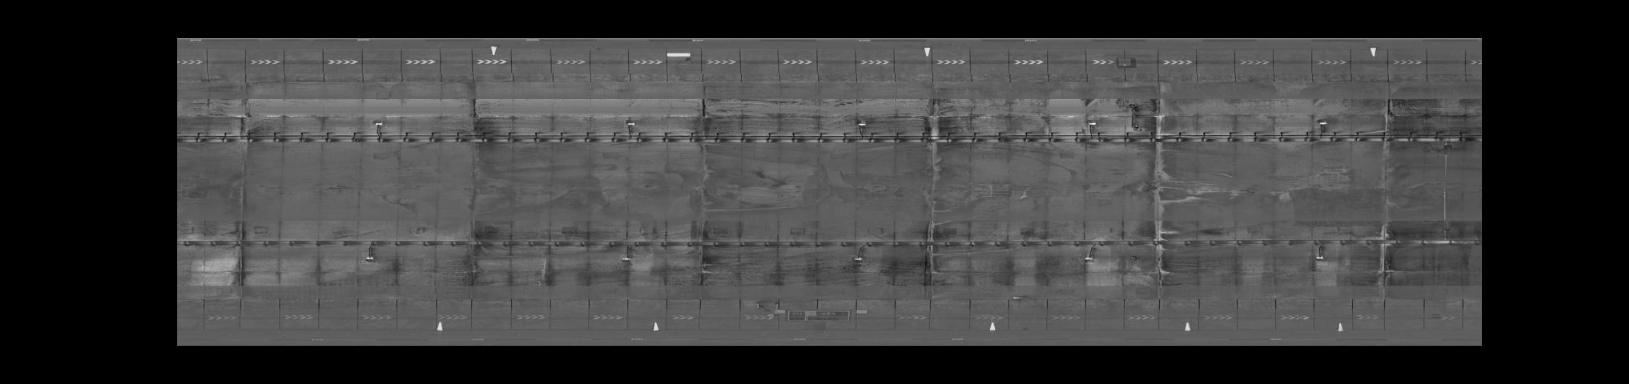light: (1307, 252, 1328, 265), (1081, 119, 1101, 129), (362, 252, 377, 264), (1079, 254, 1098, 264), (849, 255, 867, 264), (619, 254, 635, 264), (1314, 118, 1329, 128), (853, 119, 867, 129), (370, 120, 388, 128), (624, 119, 640, 127)
